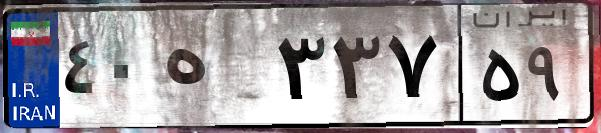0: (110, 28, 158, 98)
3: (270, 28, 330, 110), (330, 28, 385, 110)
4: (57, 26, 110, 100)
5: (475, 38, 525, 113)
7: (385, 28, 445, 110)
9: (525, 38, 570, 115)
ه: (158, 20, 270, 120)
